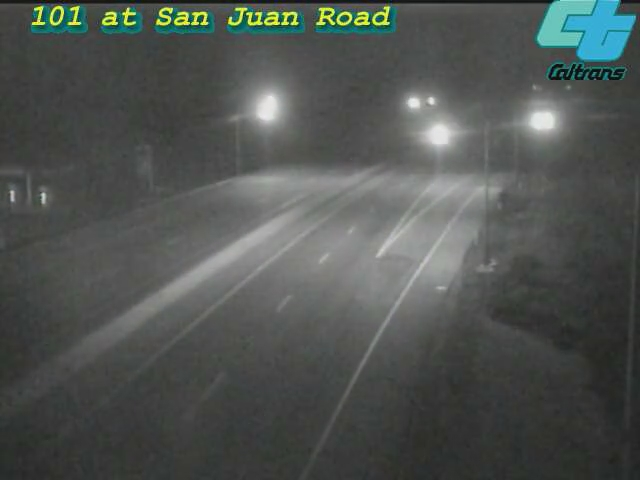vehicle: (410, 109, 460, 159), (512, 96, 562, 146), (522, 95, 572, 145)
